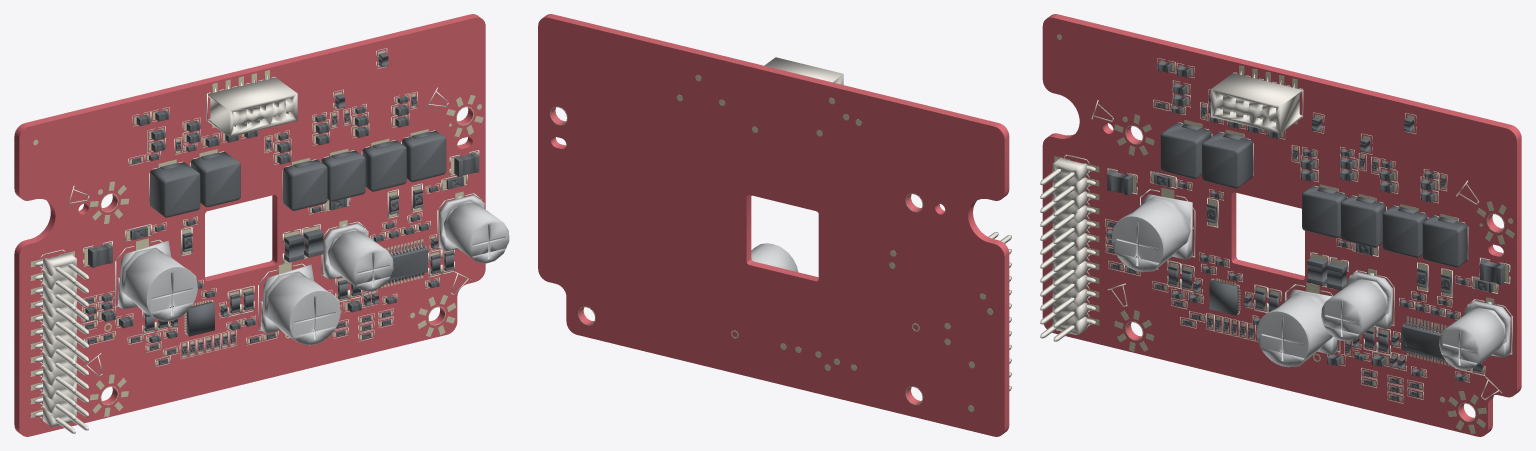
File: pcb-amp.glb
3 views of the same model, side by side, from view 1: azimuth 30°, elevation 25°; view 2: azimuth 150°, elevation 25°; view 3: azimuth 330°, elevation 25° (orthographic).
Parts seen in each view (by area): view 1: pcb, body, metal, plastic, pads, silk; view 2: pcb, pads, plastic, metal; view 3: pcb, body, metal, plastic, pads, silk.
Boxes of the visible parts, x1=… form: pcb: x1=14, y1=14, x2=485, y2=436; body: x1=85, y1=52, x2=479, y2=364; metal: x1=117, y1=195, x2=509, y2=345; plastic: x1=34, y1=75, x2=297, y2=433; pads: x1=30, y1=50, x2=483, y2=417; silk: x1=40, y1=48, x2=481, y2=419; pcb: x1=538, y1=14, x2=1009, y2=436; pads: x1=550, y1=75, x2=993, y2=411; plastic: x1=764, y1=57, x2=1011, y2=391; metal: x1=751, y1=243, x2=798, y2=271; pcb: x1=1042, y1=14, x2=1521, y2=436; body: x1=1106, y1=61, x2=1505, y2=401; metal: x1=1111, y1=194, x2=1510, y2=370; plastic: x1=1040, y1=71, x2=1302, y2=341; pads: x1=1054, y1=34, x2=1514, y2=433; silk: x1=1064, y1=58, x2=1512, y2=403.
Size of the model in its own units: 90.5 by 57.5 by 11.68.
